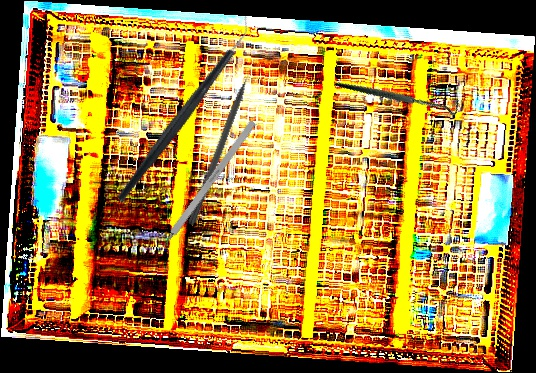Chopper: (71, 13, 295, 204)
Hook Surgical: (332, 30, 466, 158), (151, 119, 257, 261)
Pusher: (187, 57, 260, 227)
